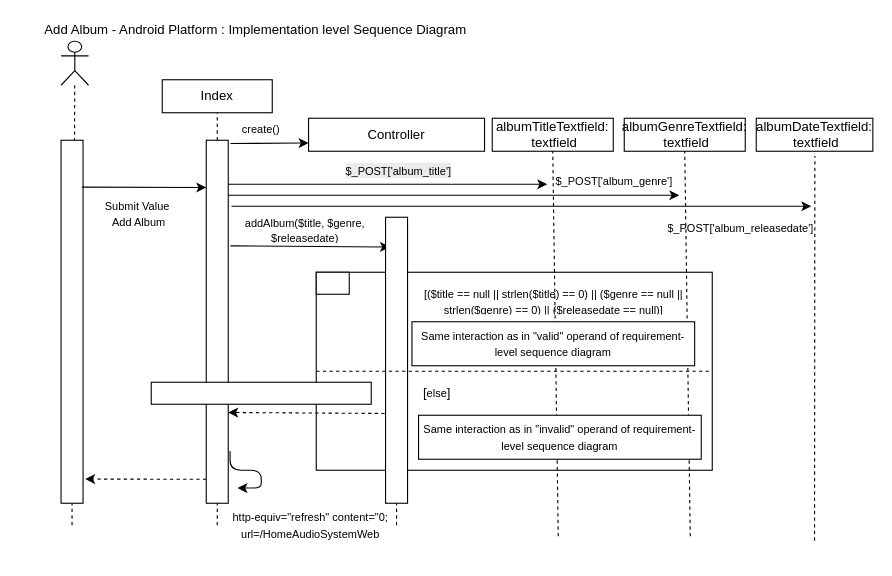
Image size: 892x576. Some labels were removed from this diagram. The box of each missing label's shape, as (x1, y1, x2, y2) in pixels:
alt: (315, 271, 349, 294)
catch exception and set error message: (150, 381, 371, 404)
User: (60, 40, 89, 85)
